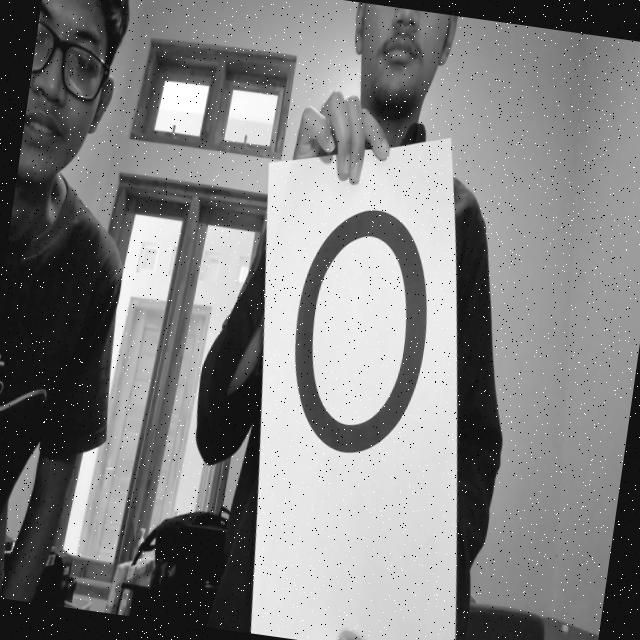o: (262, 182, 450, 494)
